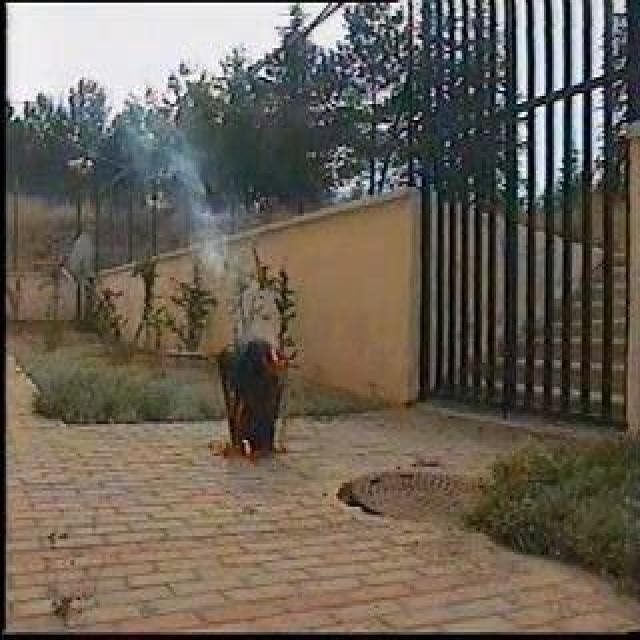smoke: (163, 117, 231, 256)
